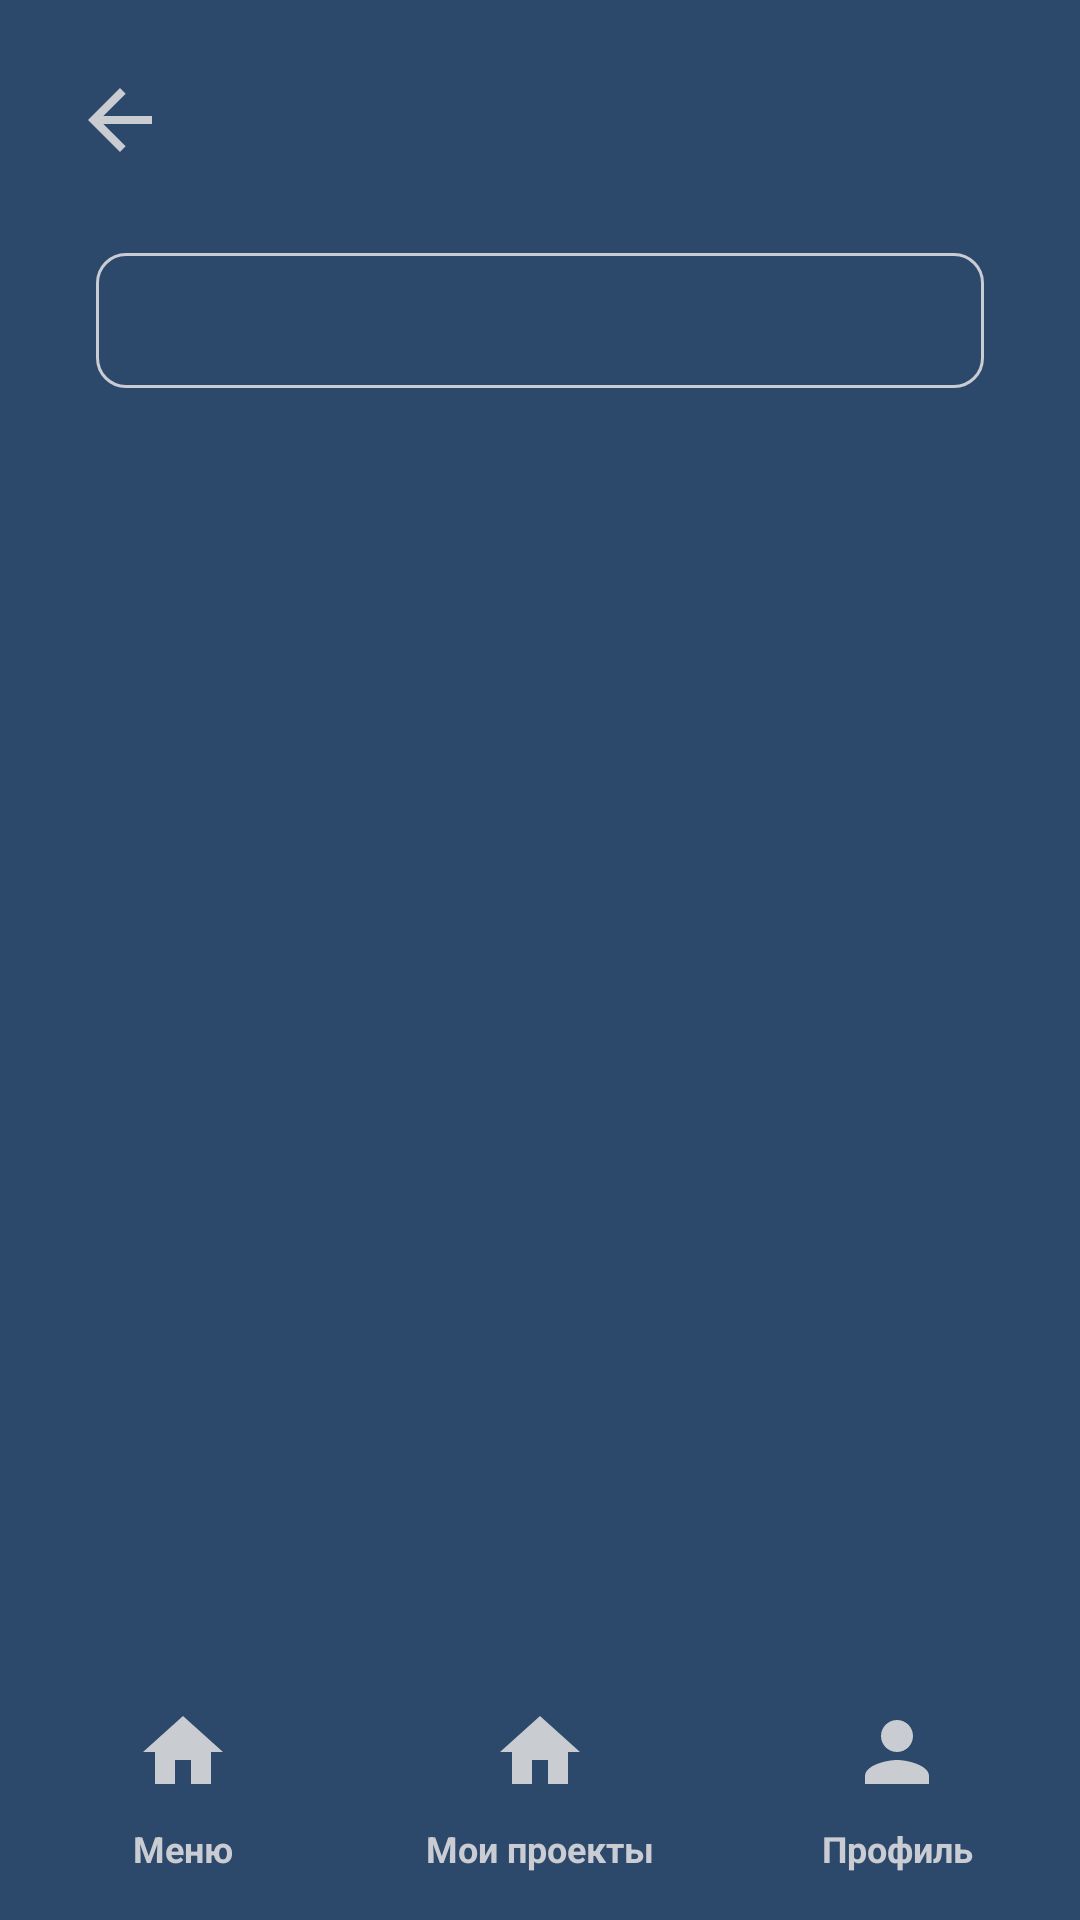

Where to tap for icons on this 1080px x 1920px app screen, as (x=x, y=y):
arrow back: (x=120, y=120)
home: (x=183, y=1750), (x=540, y=1750)
profile: (x=897, y=1752)
